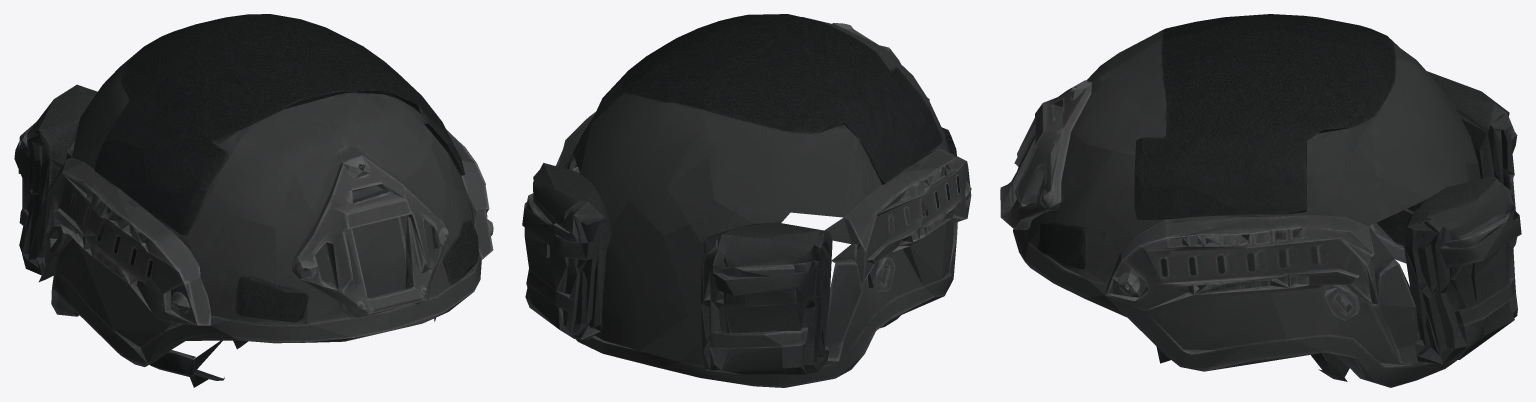
File: bd_helmet.glb
The picture shows the model from 3 angles, left to right: view 1: azimuth 30°, elevation 25°; view 2: azimuth 150°, elevation 25°; view 3: azimuth 270°, elevation 25°; orthographic projection. The views are drawn at different scales.
Visible parts, largest first — view 1: bd_helmet; view 2: bd_helmet; view 3: bd_helmet.
Boxes of the visible parts, <box> form: bd_helmet: <box>14,14,493,387</box>; bd_helmet: <box>522,14,971,387</box>; bd_helmet: <box>1000,14,1521,387</box>.
Bounding box in the file's own units: 0.2391 × 0.1794 × 0.2969.
1 material, 1 textured.
